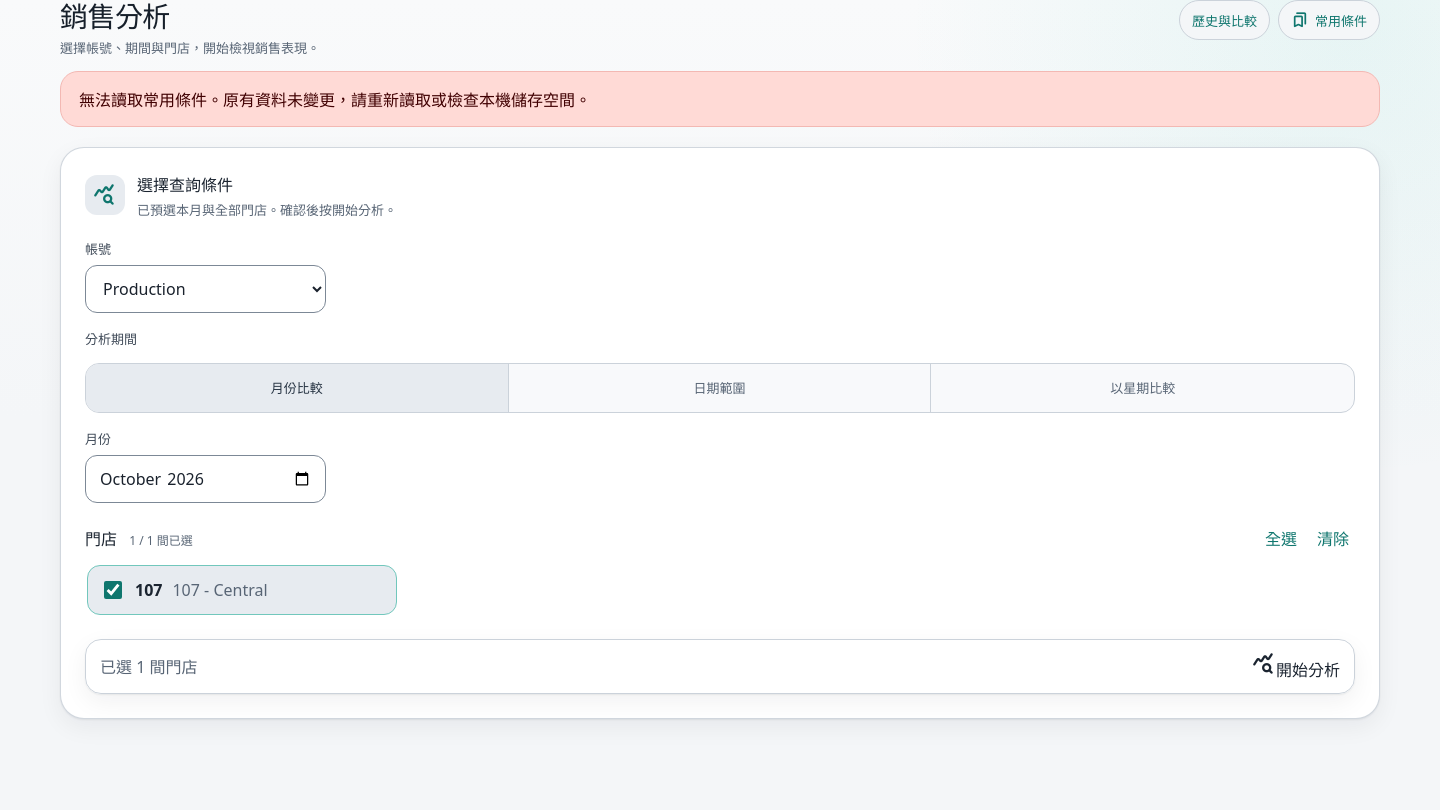
Scenario: saved analysis conditions › does not overwrite unreadable storage and allows retrying the read
The width and height of the screenshot is (1440, 810).
Check: the text "107 - Central" is shown, box x1=172 y1=579 x2=268 y2=601
Click the text "開始分析". click: [1296, 666]
box: x1=1252 y1=652 x2=1340 y2=681
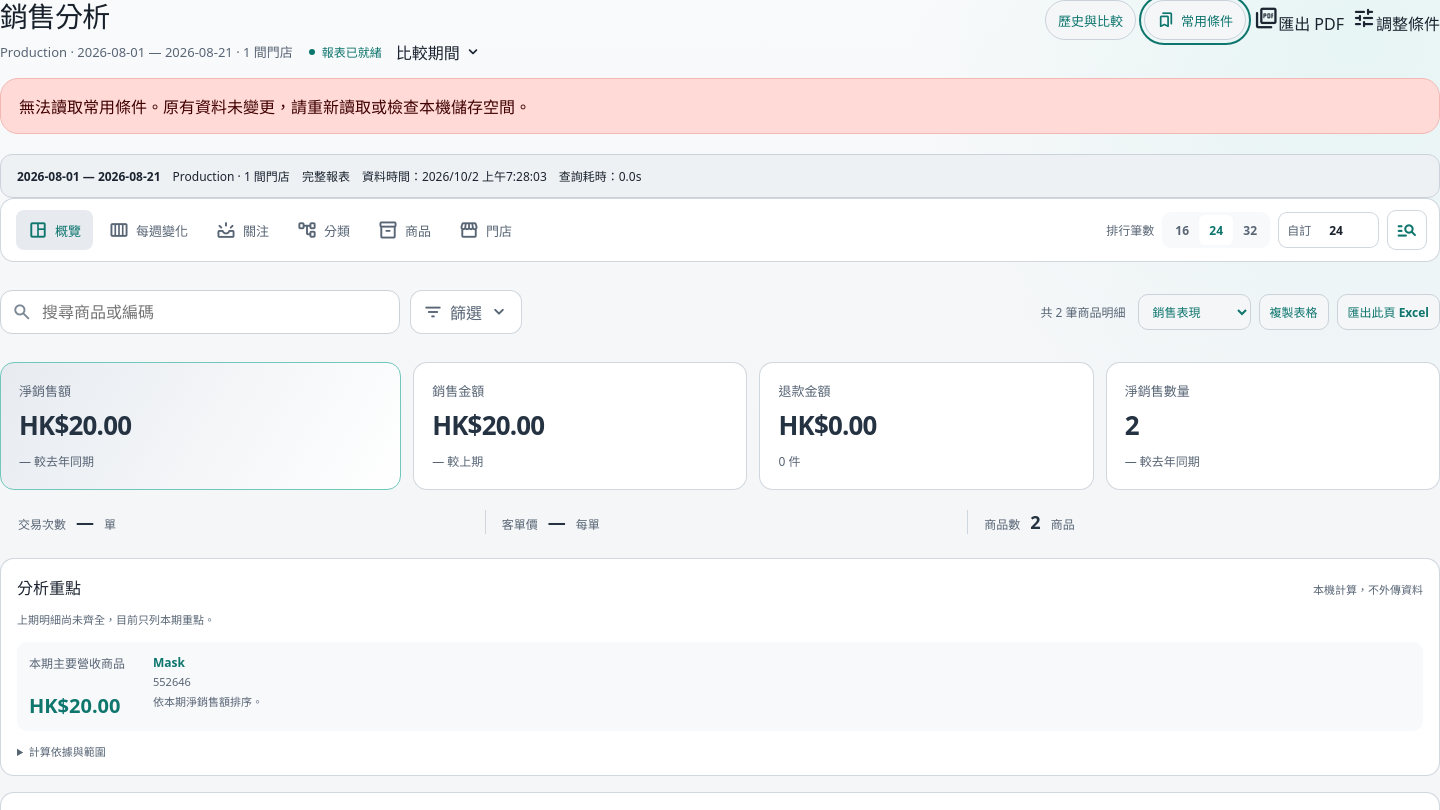
Click the button "常用條件". click: [1195, 20]
box: x1=1144 y1=0 x2=1246 y2=40
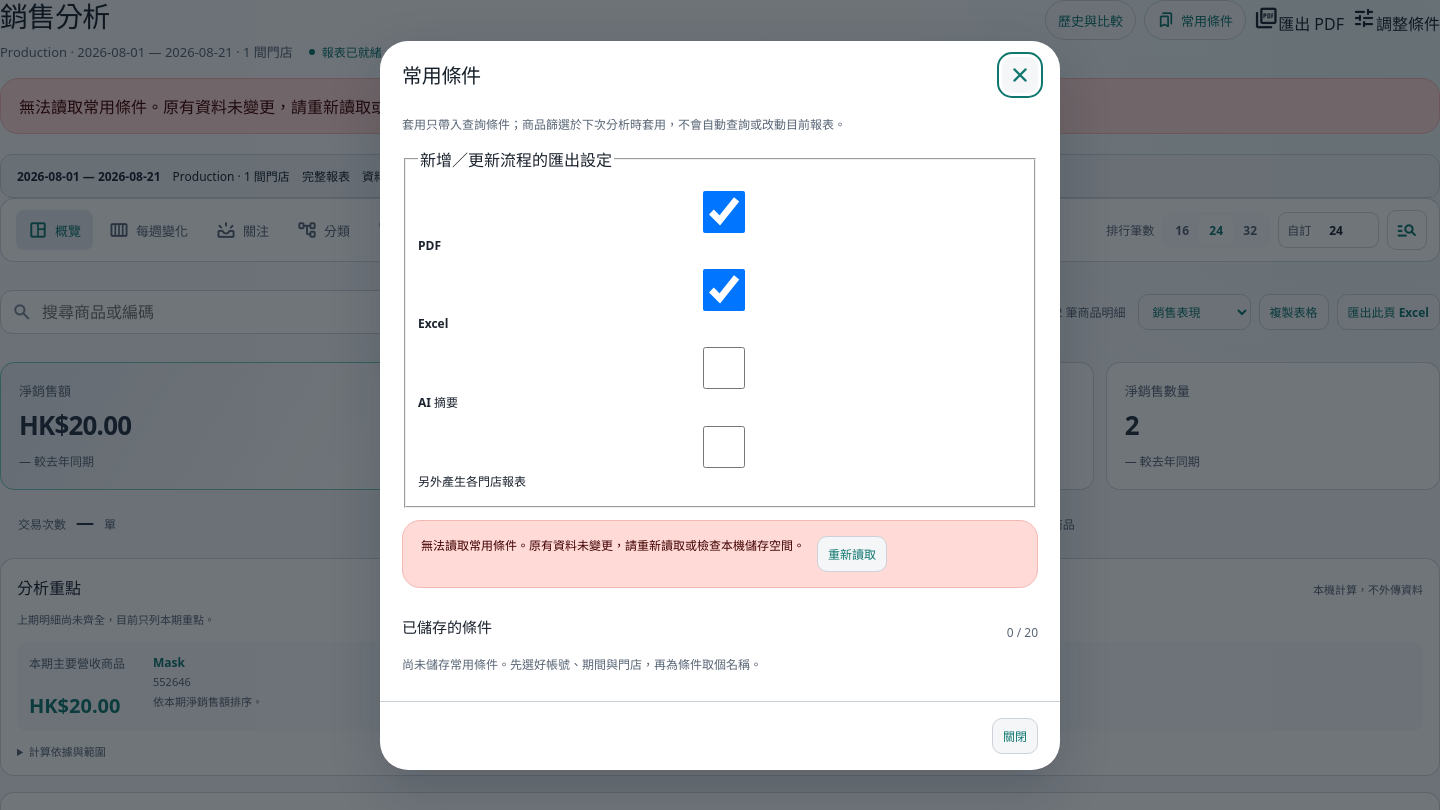
Check: the message shows "無法讀取", box x1=421 y1=538 x2=805 y2=554
Click the button "重新讀取". click: [852, 554]
box: x1=817 y1=536 x2=887 y2=572
(page scrolled)
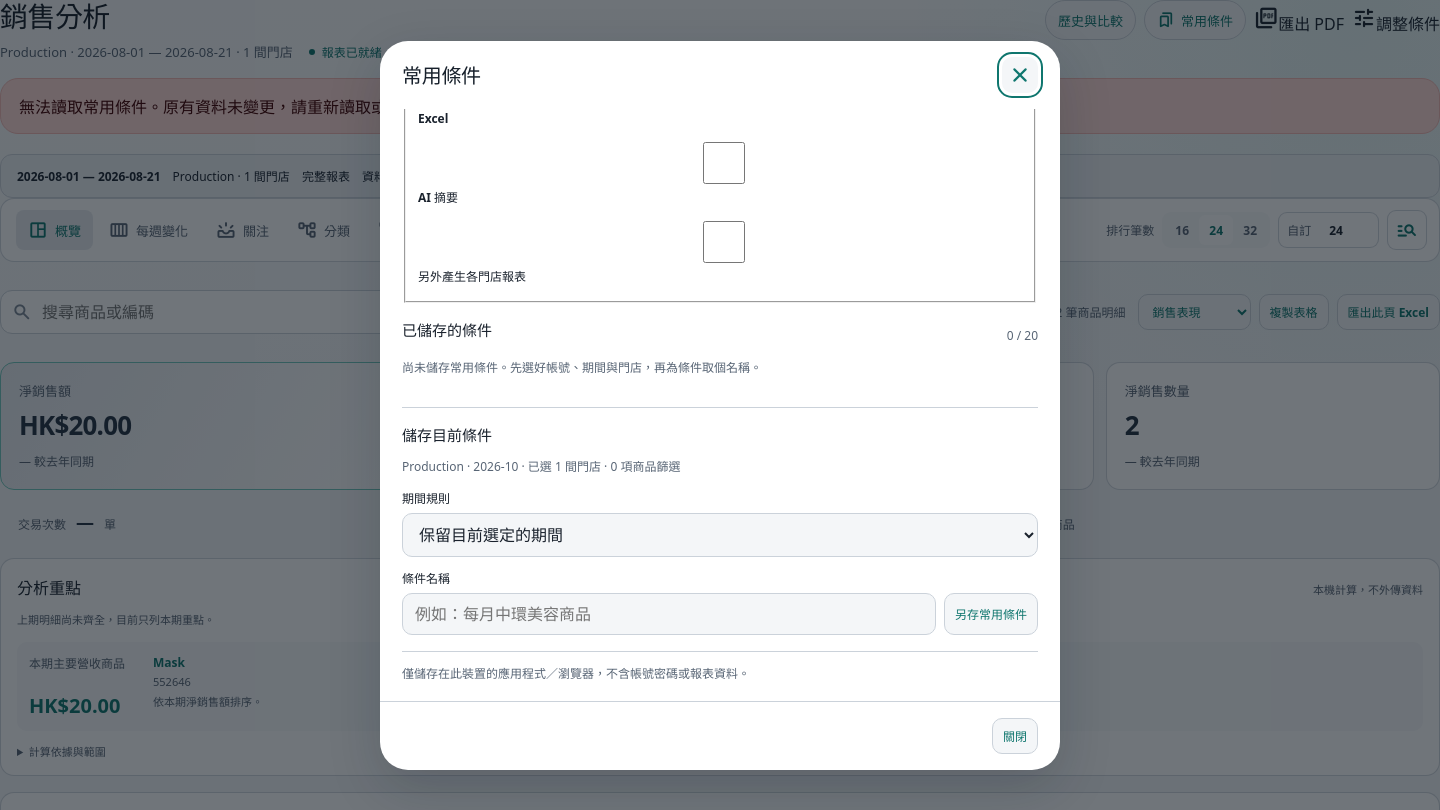
Check: the button "另存常用條件" is enabled, box x1=944 y1=593 x2=1038 y2=635
Check: the message "無法讀取常用條件。原有資料未變更，請重新讀取或檢查本機儲存空間。 重新讀取" is gone
